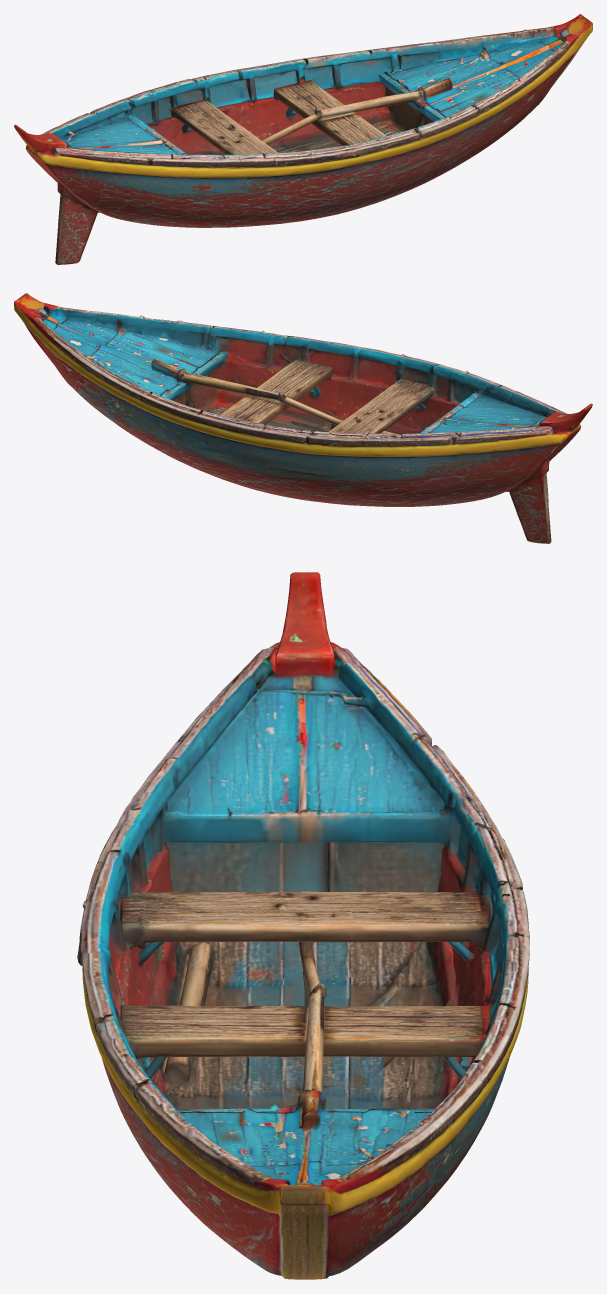
The model's file is traditional-wooden-rowing-boat-of-varana-cmuyh8hj.glb.
3 views of the same model, one above another, from view 1: azimuth 30°, elevation 25°; view 2: azimuth 150°, elevation 25°; view 3: azimuth 270°, elevation 25° (orthographic). The views are drawn at different scales.
Parts seen in each view (by area): view 1: tripo_node_ce566a43-ad53-47f5-b3ce-cf83857ab32c; view 2: tripo_node_ce566a43-ad53-47f5-b3ce-cf83857ab32c; view 3: tripo_node_ce566a43-ad53-47f5-b3ce-cf83857ab32c.
Boxes of the visible parts, x1,y1,x2,y2 form: tripo_node_ce566a43-ad53-47f5-b3ce-cf83857ab32c: (14, 14, 592, 264); tripo_node_ce566a43-ad53-47f5-b3ce-cf83857ab32c: (14, 293, 592, 543); tripo_node_ce566a43-ad53-47f5-b3ce-cf83857ab32c: (77, 572, 529, 1279).
Size of the model in its own units: 1 by 0.25 by 0.3437.
Materials: 1 (1 with a texture image).
